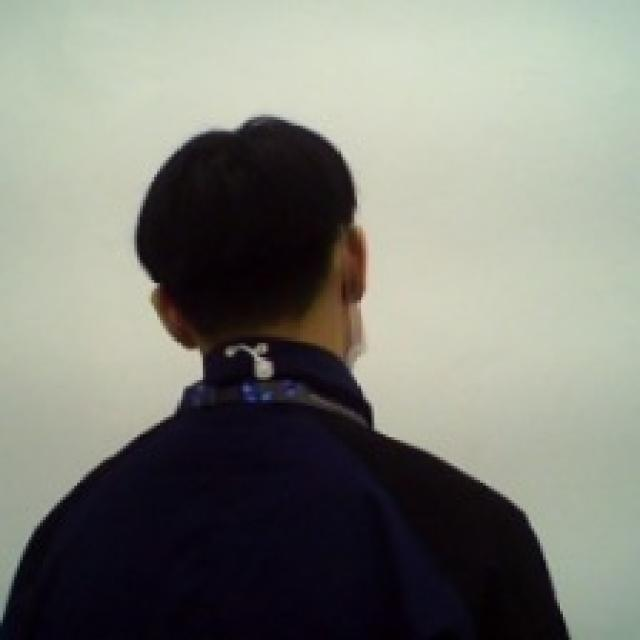no_gloves: (132, 107, 376, 357)
